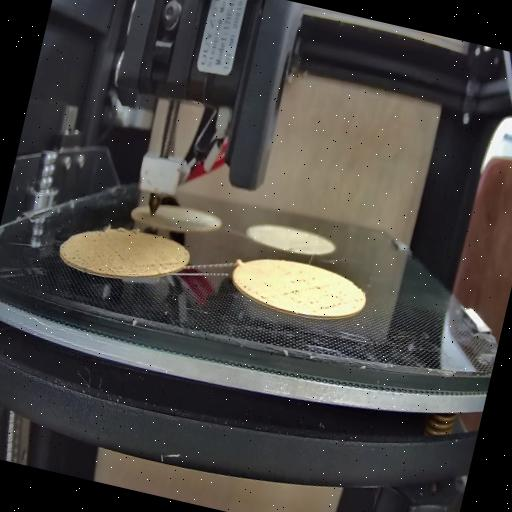under_extrusion: (282, 266, 364, 318), (70, 235, 132, 278), (236, 280, 272, 306), (136, 257, 176, 278)
